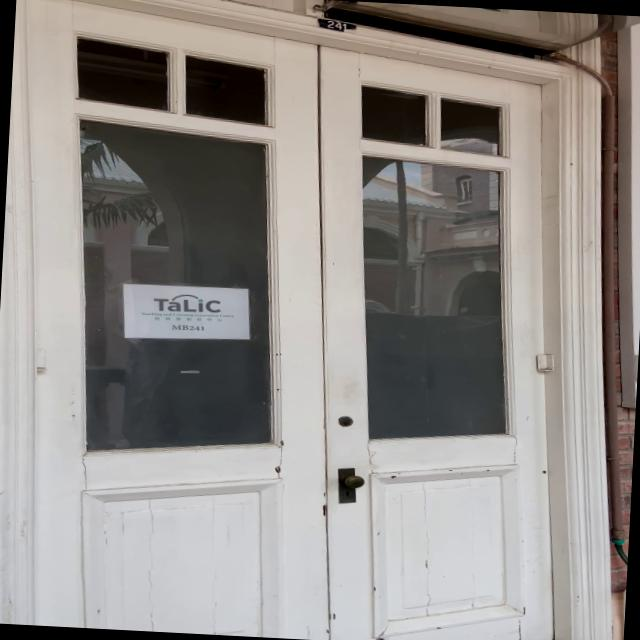room241: (314, 16, 360, 38)
